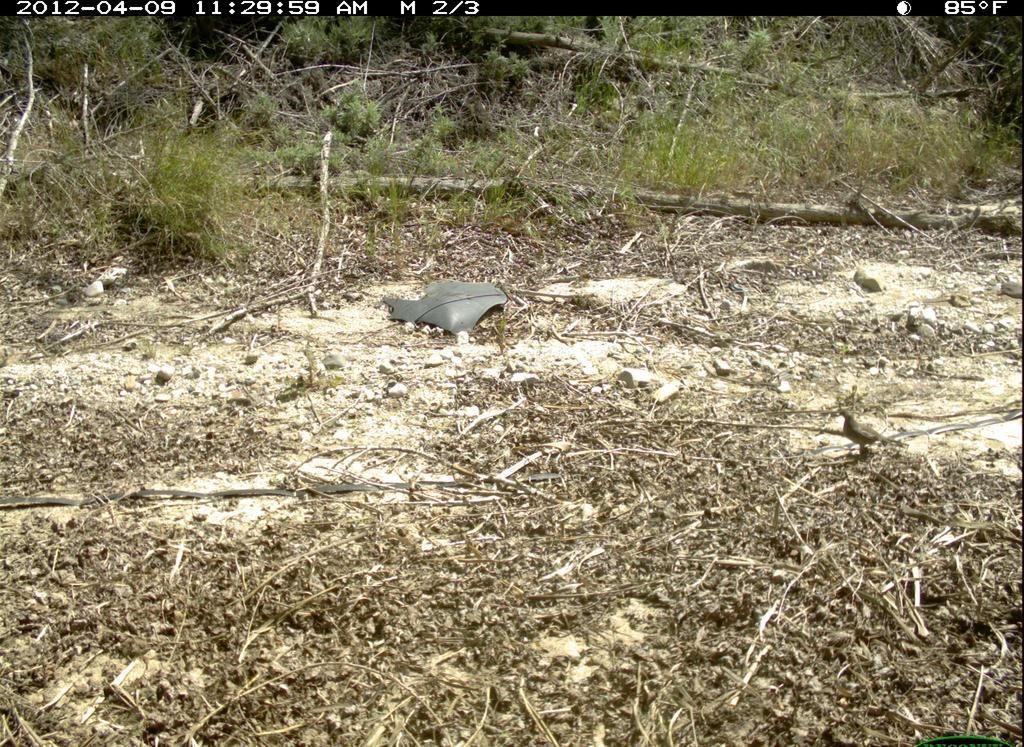bird: (834, 401, 902, 469)
